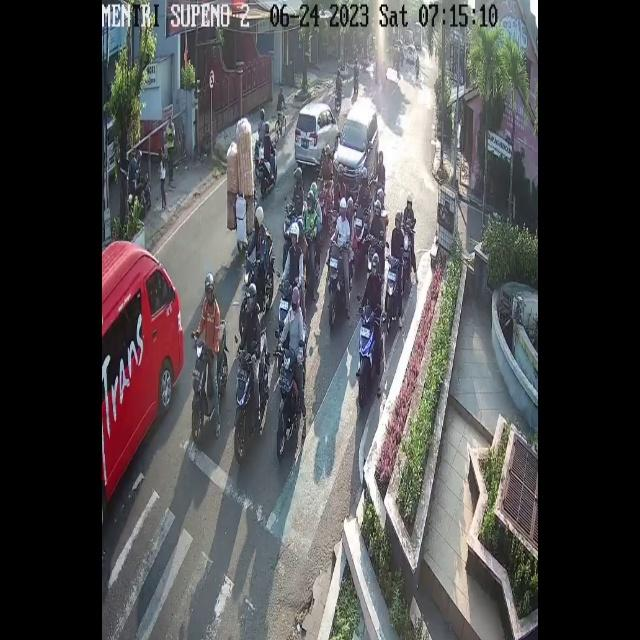bus: (190, 320, 229, 441), (274, 321, 308, 459), (236, 328, 269, 464), (355, 305, 385, 405), (240, 236, 273, 315), (329, 236, 351, 322), (385, 254, 405, 330), (259, 142, 278, 196), (353, 204, 370, 254), (316, 179, 334, 225), (279, 278, 295, 326), (366, 232, 382, 280), (401, 220, 412, 278), (282, 202, 300, 233)
car: (102, 241, 185, 503)
motorcycle: (334, 96, 379, 198), (296, 102, 340, 172)
